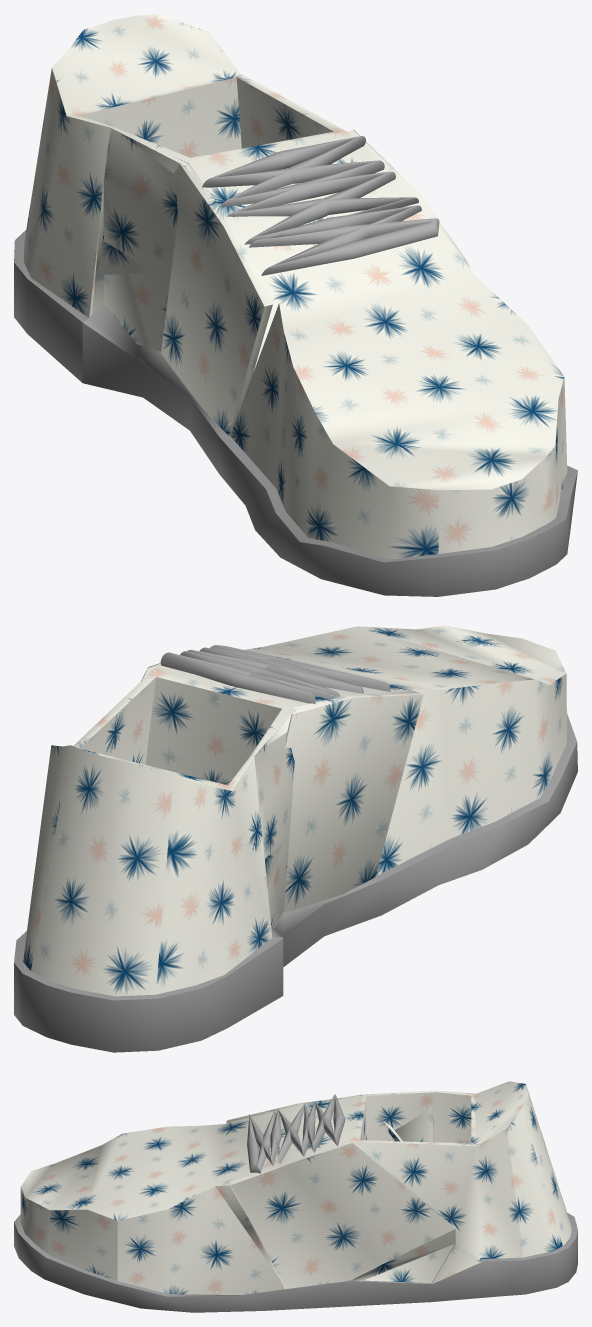
The model's file is sneakers4.fbx.
3 views of the same model, one above another, from view 1: azimuth 30°, elevation 25°; view 2: azimuth 150°, elevation 25°; view 3: azimuth 270°, elevation 25° (orthographic). The views are drawn at different scales.
Parts seen in each view (by area): view 1: sneakers4; view 2: sneakers4; view 3: sneakers4.
Boxes of the visible parts, bbox=[...] form: sneakers4: bbox=[14, 14, 577, 596]; sneakers4: bbox=[14, 625, 577, 1052]; sneakers4: bbox=[14, 1081, 577, 1312].
Bounding box in the file's own units: 0.0688 × 0.0678 × 0.1926.
